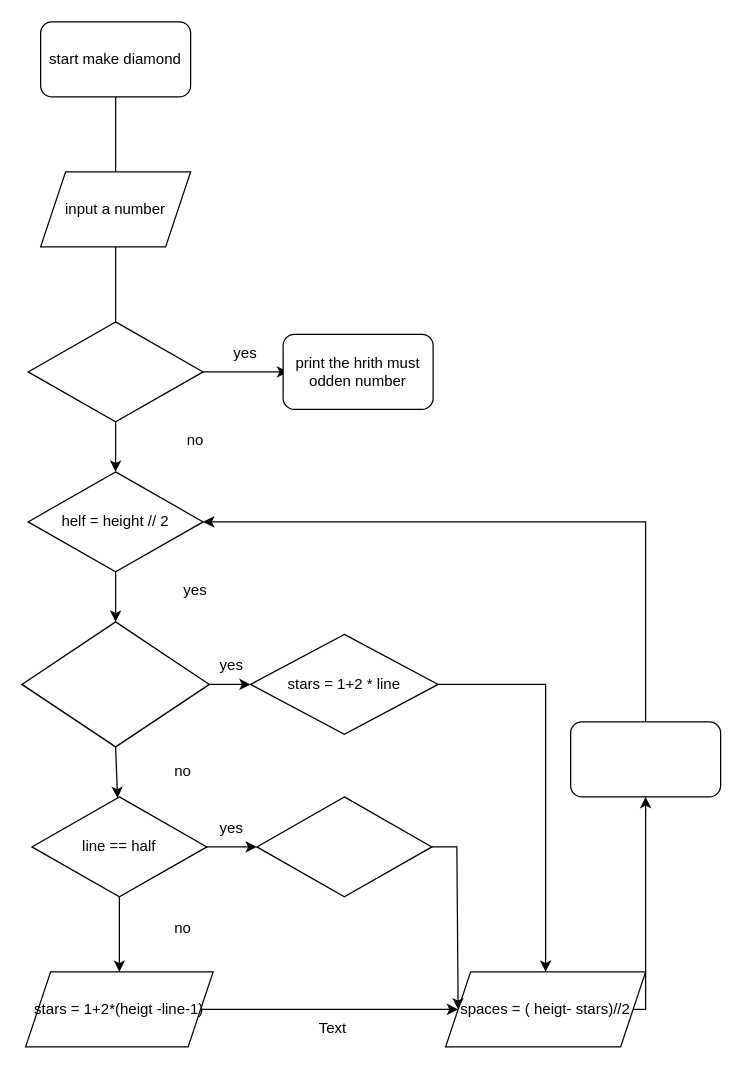
Some shapes in this 743 by 1069 pixel diagram are drawn without their labels. The shapes that lost their labels are listed below. From the top down, each one's centre as x and y in pixels, then its label:
[115,371]: if a number is even
[115,684]: if the line is minder than half number
[645,759]: print " " space " " stars " " space
[344,846]: stars = height
